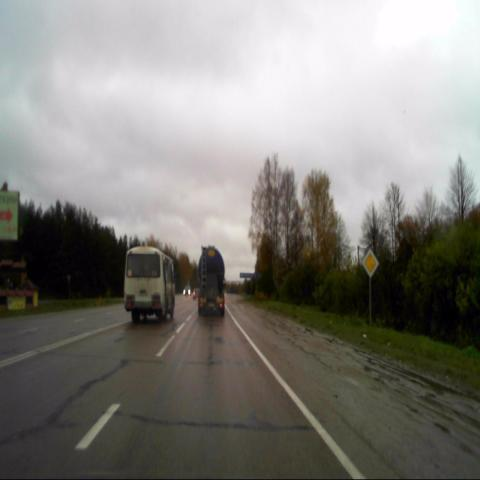2_1: (361, 248, 379, 280)
